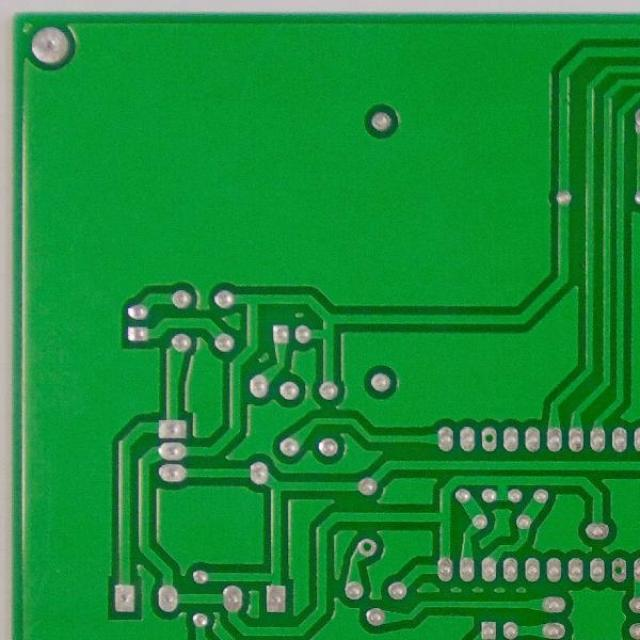missing_hole: (607, 558, 630, 582), (356, 537, 378, 560), (480, 426, 499, 451)
